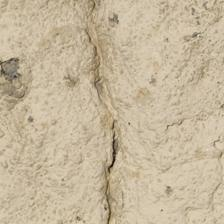Crack: (47, 57, 80, 167)
